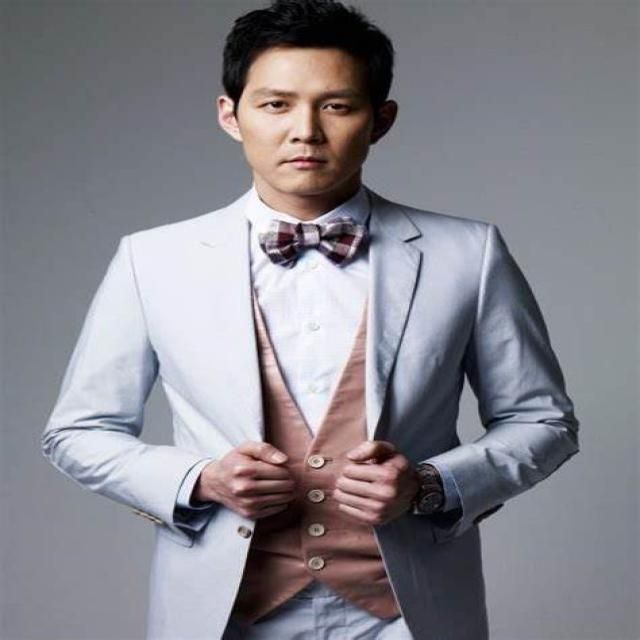stand: (88, 0, 479, 640)
